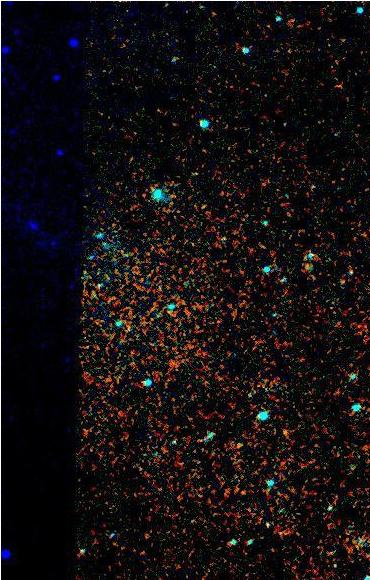star: (270, 417, 300, 447)
